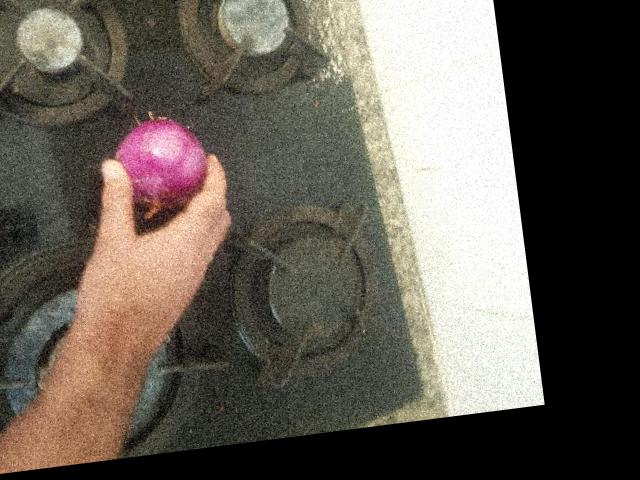onion: (249, 22, 349, 133)
